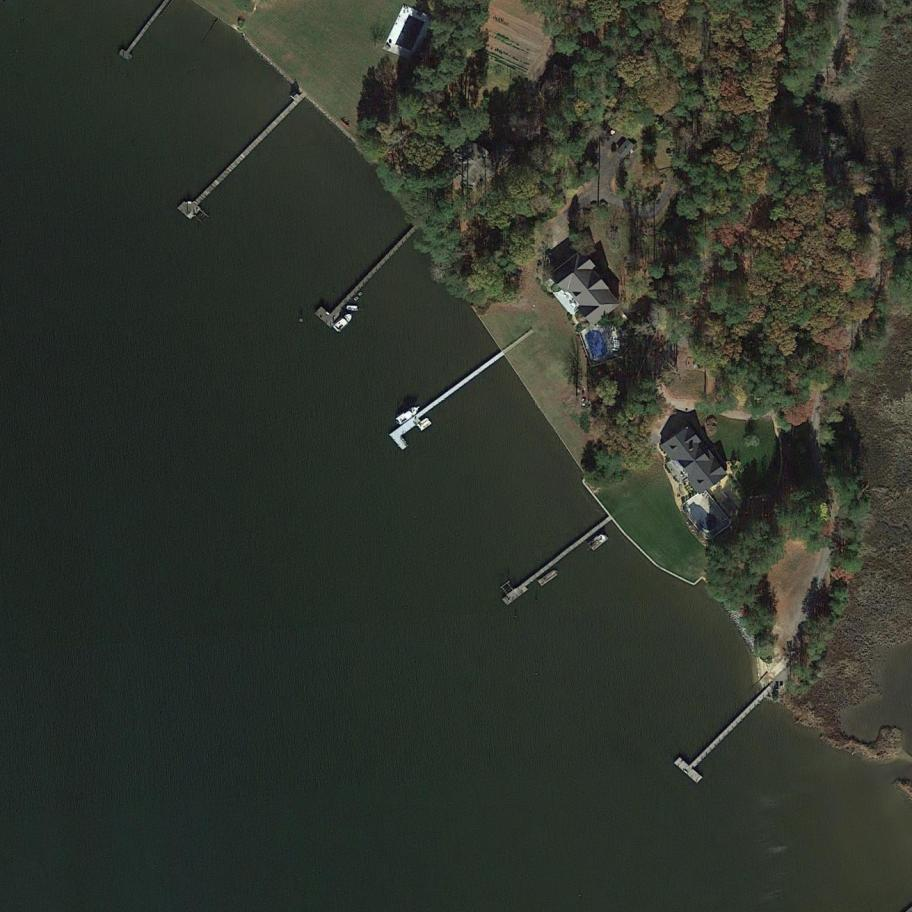ship: (394, 401, 424, 428), (586, 532, 610, 553), (333, 311, 354, 332), (537, 569, 560, 588), (347, 305, 359, 313)
